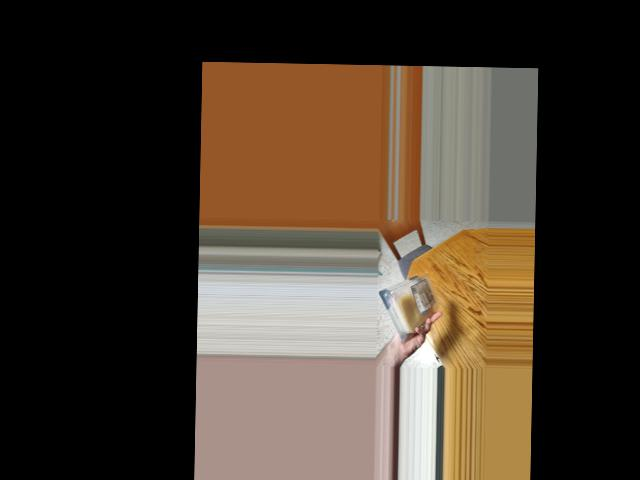cheese: (383, 273, 429, 340)
